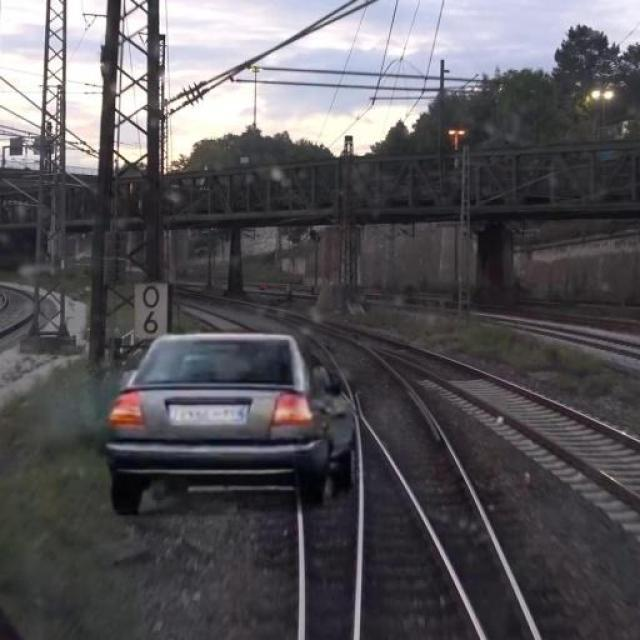vehicle: (99, 320, 360, 516)
